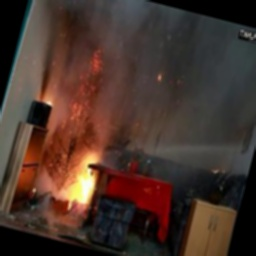fire: (55, 139, 116, 211)
